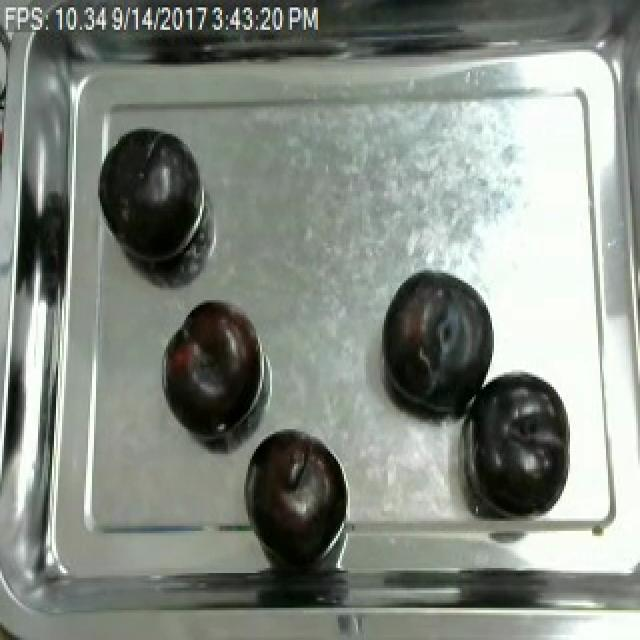Fruit: (376, 265, 500, 422), (460, 372, 574, 524), (96, 121, 208, 268), (160, 293, 262, 439), (246, 424, 346, 546)
